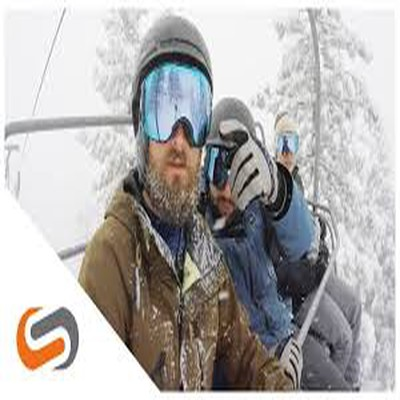eywear: (128, 71, 219, 147), (202, 132, 263, 196), (267, 131, 307, 158)
